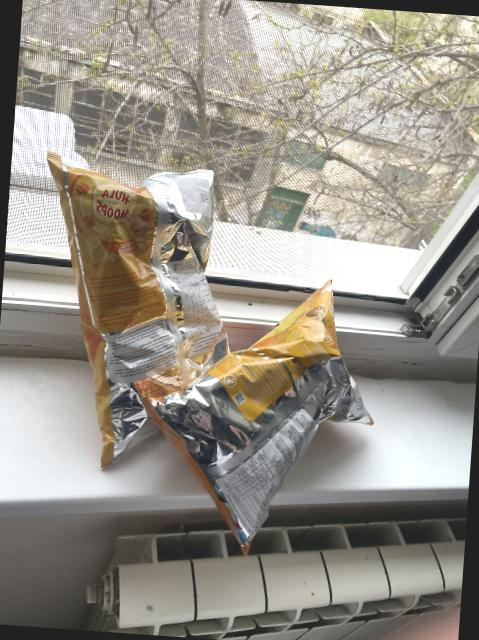Chio Cascaval 125g: (125, 268, 381, 550)
Chio Hula Hoops Cheese 70g: (21, 154, 246, 477)
